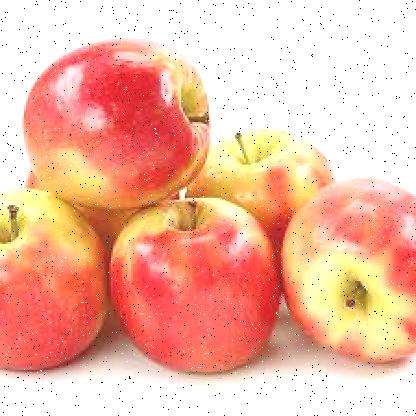apple: (24, 41, 207, 203), (112, 199, 274, 371), (272, 172, 414, 362), (0, 192, 100, 372), (200, 126, 335, 240)
